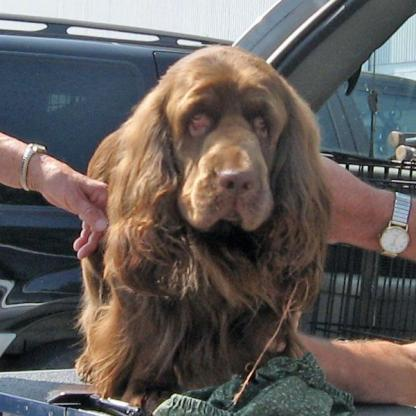Sussex_spaniel: (70, 40, 334, 414)
